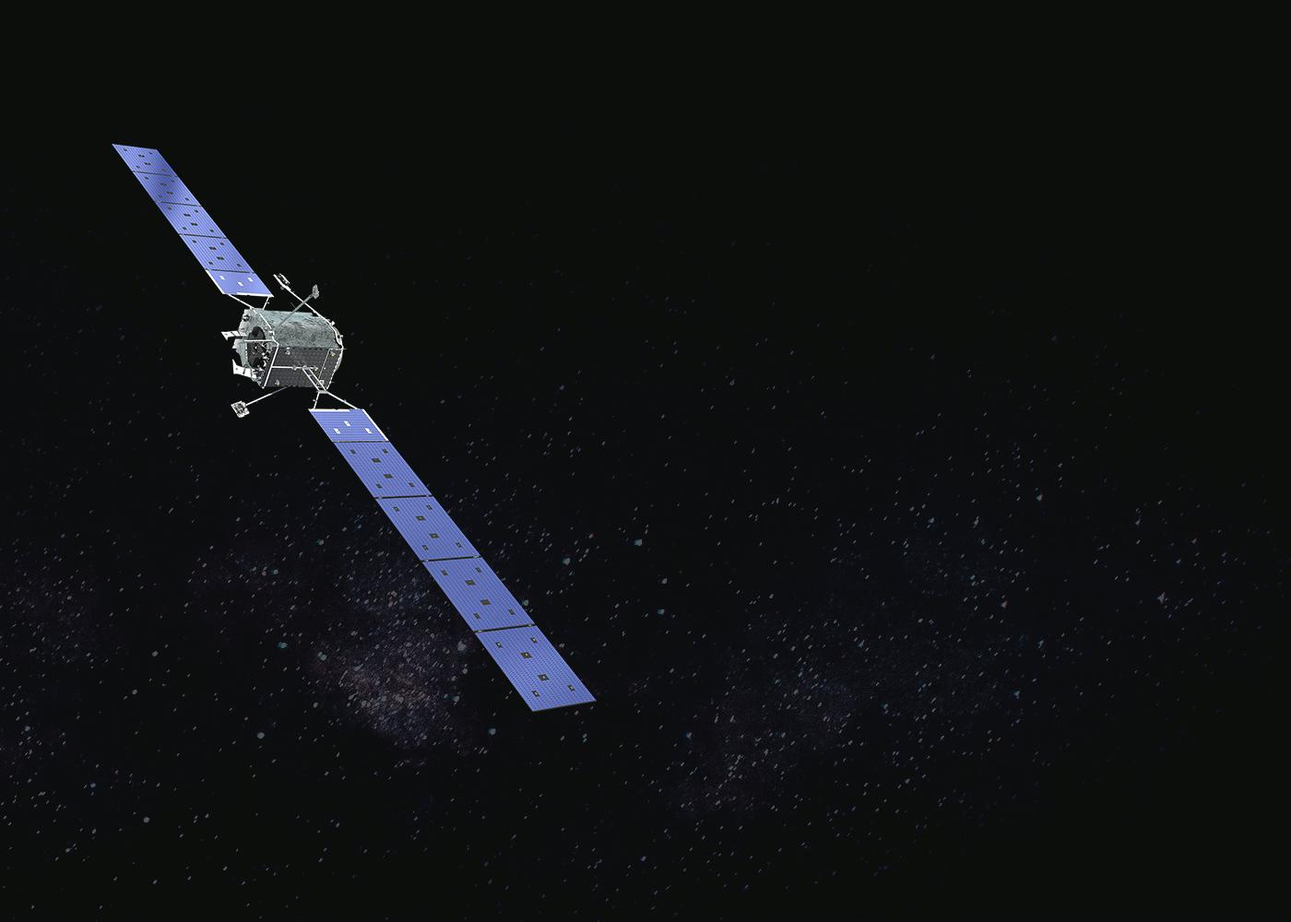antenna: (273, 285, 320, 337), (229, 384, 289, 420)
body: (231, 306, 343, 392)
solar: (306, 406, 601, 716), (108, 137, 278, 300)
